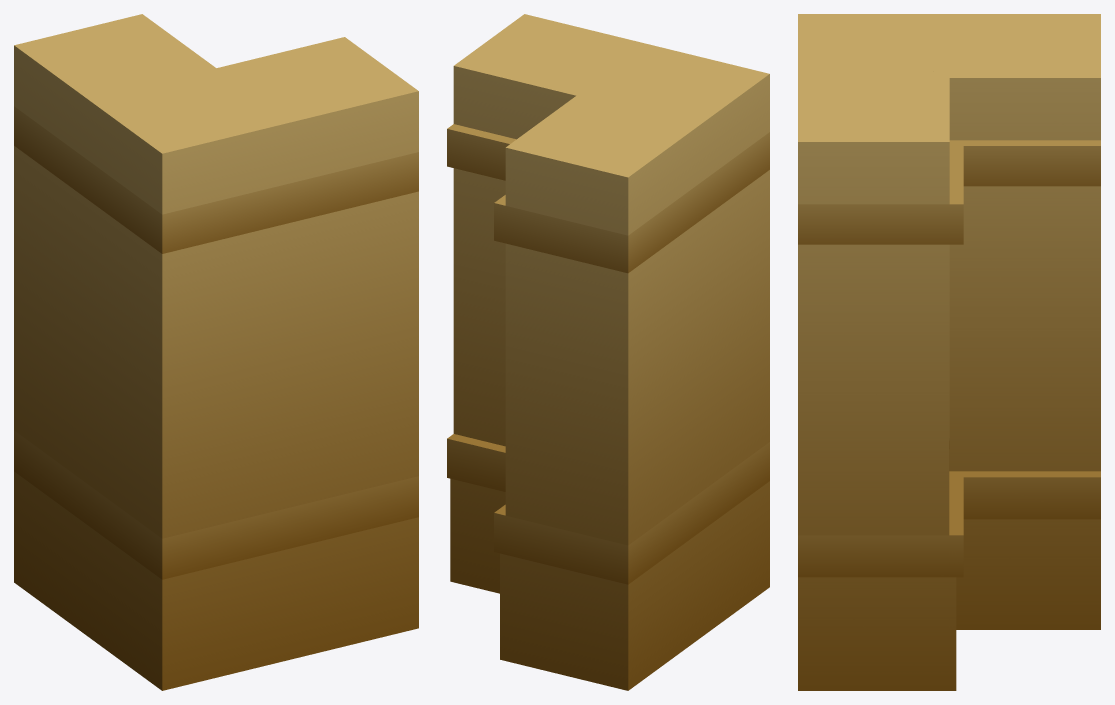
The model's file is Enviroment__Wall_004.fbx.
The picture shows the model from 3 angles, left to right: view 1: azimuth 30°, elevation 25°; view 2: azimuth 150°, elevation 25°; view 3: azimuth 270°, elevation 25°; orthographic projection. The views are drawn at different scales.
Parts seen in each view (by area): view 1: Cube.013; view 2: Cube.013; view 3: Cube.013.
Boxes of the visible parts, box(x1,y1,x2,y2) form: Cube.013: box(14, 14, 418, 690); Cube.013: box(447, 14, 769, 690); Cube.013: box(798, 14, 1100, 690).
Bounding box in the file's own units: 20 × 40 × 20.
